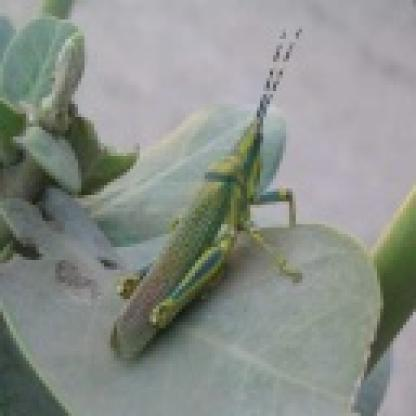grasshopper: (105, 28, 313, 362)
